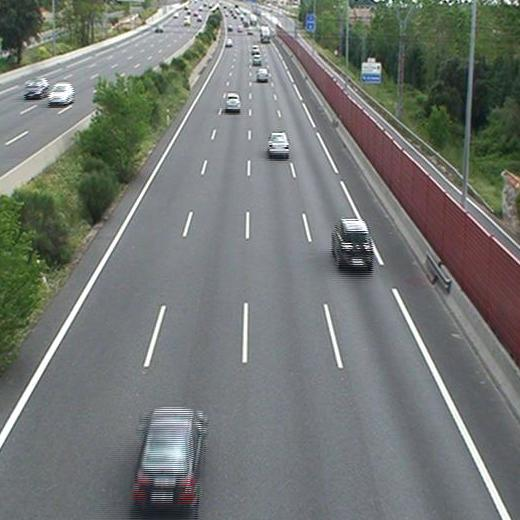car: (134, 408, 202, 503), (332, 219, 371, 266), (268, 132, 289, 153), (225, 94, 240, 110), (257, 69, 269, 80), (253, 55, 261, 63)
